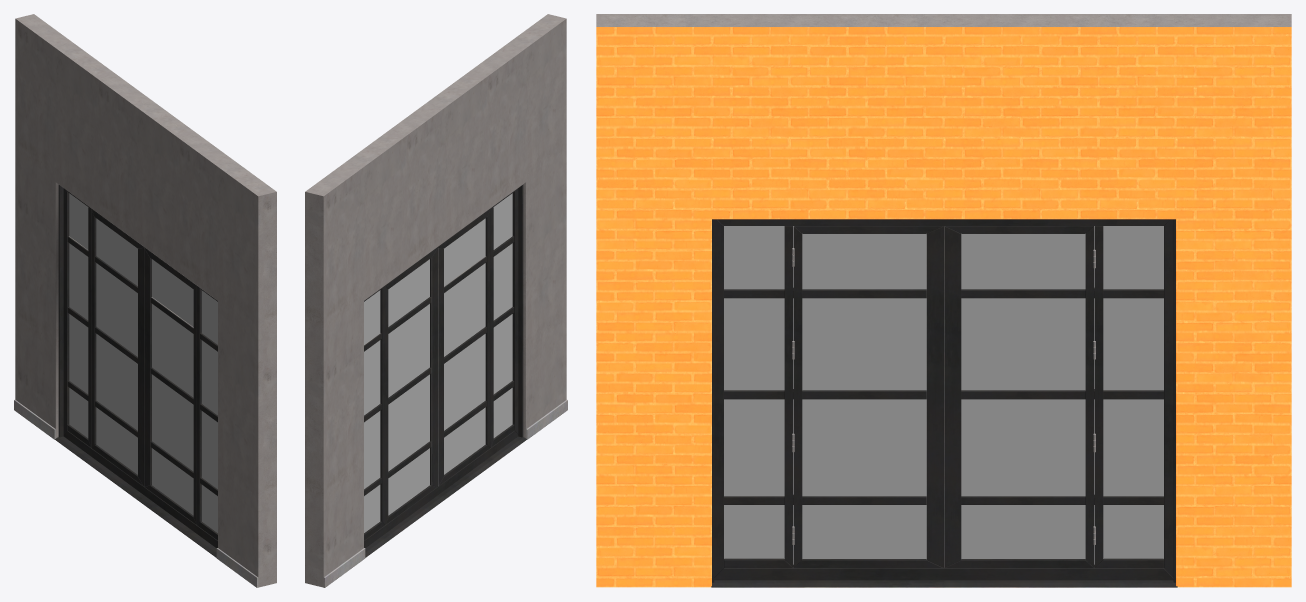
The model's file is SM_Wall_Window_4_5x3_5_01a.fbx.
3 renders of one model, left to right at view 1: azimuth 30°, elevation 25°; view 2: azimuth 150°, elevation 25°; view 3: azimuth 270°, elevation 25°, orthographic. The views are drawn at different scales.
Visible parts, largest first — view 1: SM_Wall_Window_4_5x3_5_01a_LOD0; view 2: SM_Wall_Window_4_5x3_5_01a_LOD0; view 3: SM_Wall_Window_4_5x3_5_01a_LOD0.
Part boxes in pixels (x1,y1,x2,y2): SM_Wall_Window_4_5x3_5_01a_LOD0: (14,14,276,587); SM_Wall_Window_4_5x3_5_01a_LOD0: (305,14,567,587); SM_Wall_Window_4_5x3_5_01a_LOD0: (596,14,1291,587).
Bounding box in the file's own units: 22.12 × 450 × 400.
